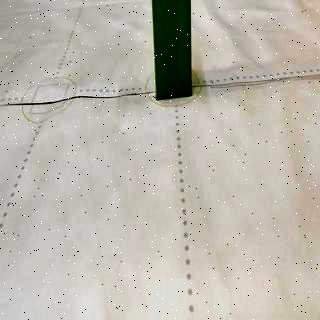greenbox: (152, 0, 198, 106)
